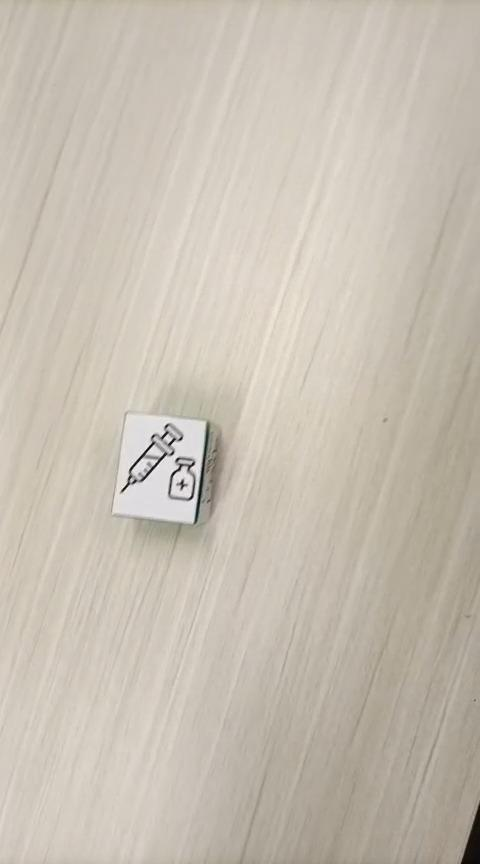antiseptic cream: (109, 409, 218, 527)
